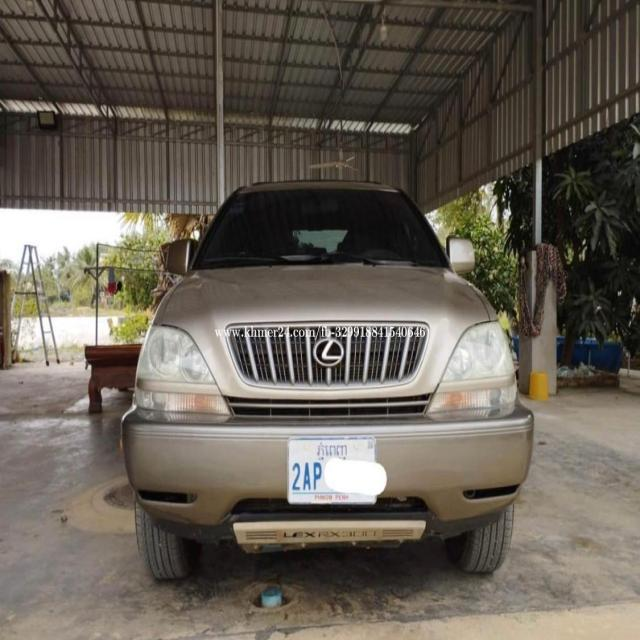Phnom_Penh: (318, 442, 348, 460)
